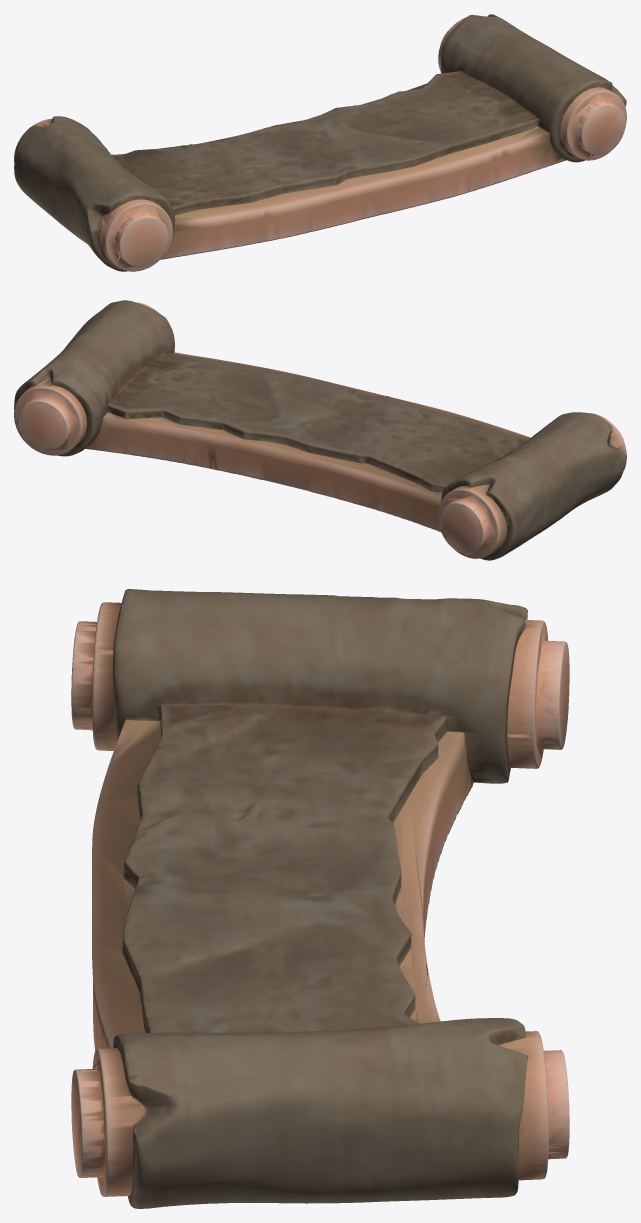
The model's file is Prop - Nameplate.glb.
3 renders of one model, top to bottom at view 1: azimuth 30°, elevation 25°; view 2: azimuth 150°, elevation 25°; view 3: azimuth 270°, elevation 25°, orthographic. The views are drawn at different scales.
Parts seen in each view (by area): view 1: nameplate; view 2: nameplate; view 3: nameplate.
Part boxes in pixels (box(x1,y1,x2,y2)): nameplate: box(14, 14, 626, 271); nameplate: box(14, 300, 626, 560); nameplate: box(71, 589, 569, 1208).
Bounding box in the file's own units: 1.28 × 0.1901 × 0.5166.
1 material, 1 textured.
